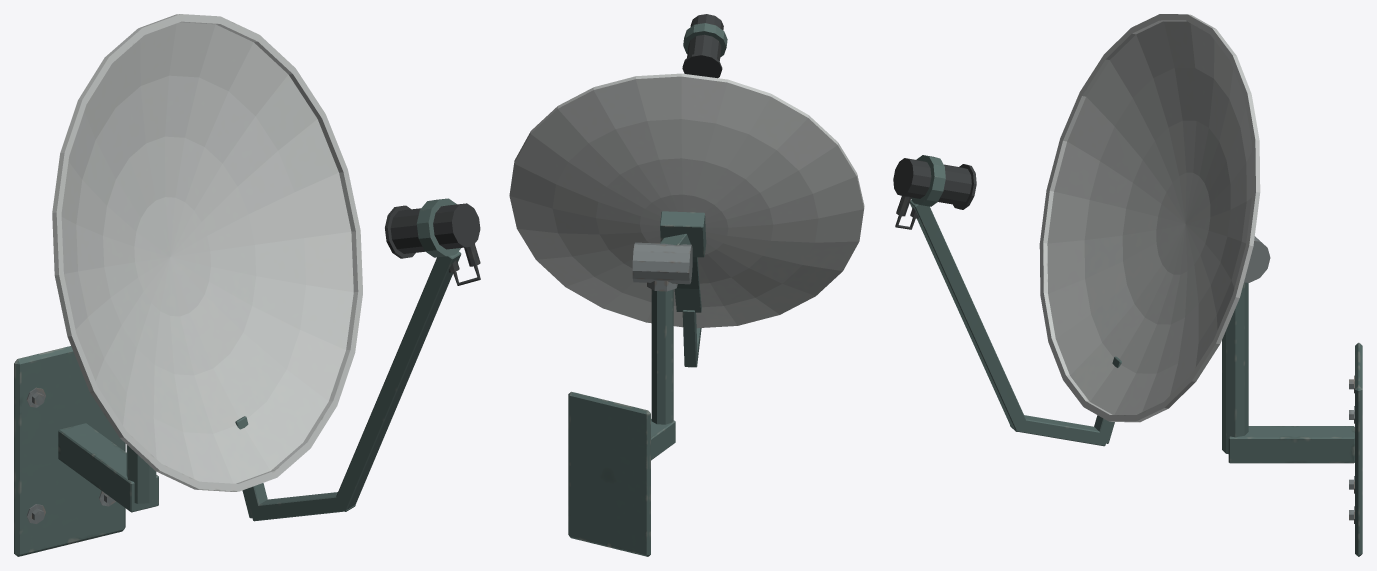
The model's file is satellite_dish_angled.glb.
3 renders of one model, left to right at view 1: azimuth 30°, elevation 25°; view 2: azimuth 150°, elevation 25°; view 3: azimuth 270°, elevation 25°, orthographic. The views are drawn at different scales.
Parts seen in each view (by area): view 1: SatelliteDishAngled; view 2: SatelliteDishAngled; view 3: SatelliteDishAngled.
Part boxes in pixels (x1,y1,x2,y2): SatelliteDishAngled: (14, 14, 480, 556); SatelliteDishAngled: (509, 14, 864, 556); SatelliteDishAngled: (893, 14, 1362, 556).
Bounding box in the file's own units: 0.6882 × 0.9997 × 0.8482.
Materials: 1 (1 with a texture image).
